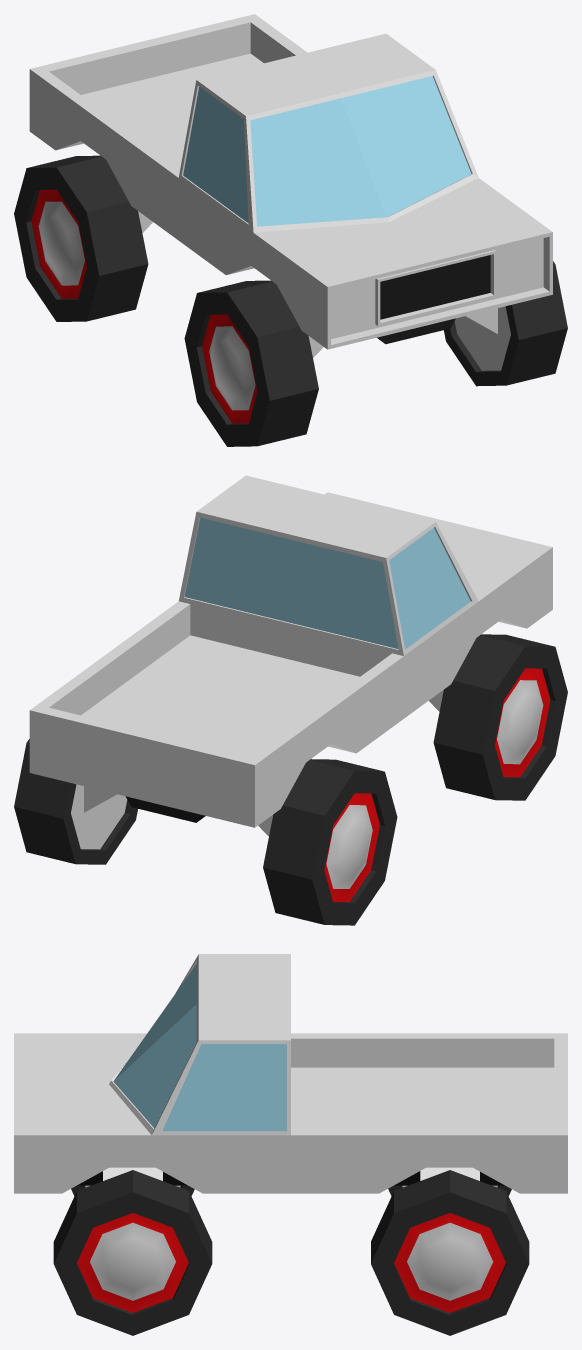
The model's file is Car V2.fbx.
3 renders of one model, top to bottom at view 1: azimuth 30°, elevation 25°; view 2: azimuth 150°, elevation 25°; view 3: azimuth 270°, elevation 25°, orthographic. The views are drawn at different scales.
Parts seen in each view (by area): view 1: Cube; view 2: Cube; view 3: Cube.
Part boxes in pixels (x1,y1,x2,y2): Cube: (14, 14, 567, 446); Cube: (14, 475, 567, 925); Cube: (14, 954, 567, 1335).
Size of the model in its own units: 186 by 170 by 315.
